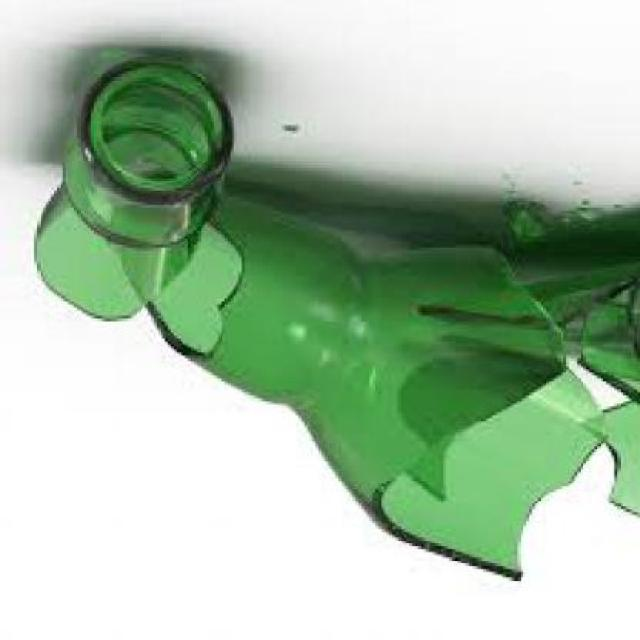GLASS: (108, 199, 606, 583), (28, 62, 230, 324), (540, 271, 637, 520), (495, 202, 547, 276), (560, 210, 600, 242)
